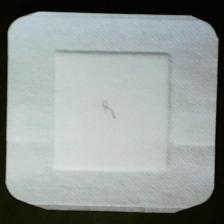Dressing: (5, 8, 220, 215)
F_Body: (97, 96, 122, 127)
